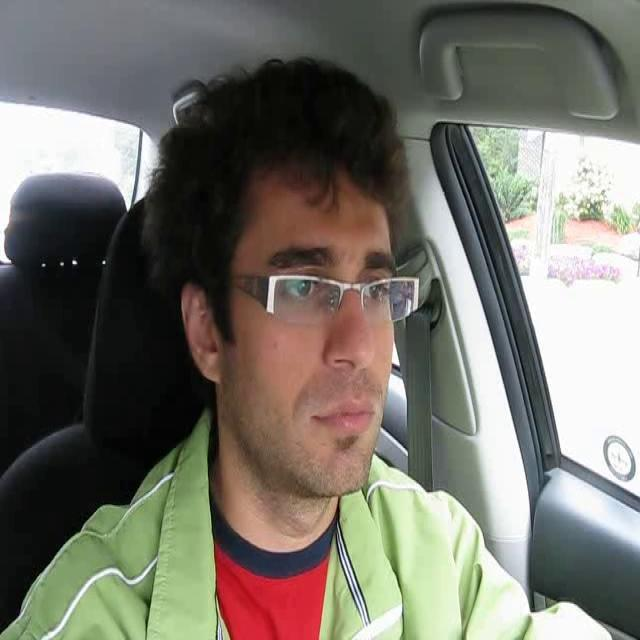close: (305, 393, 381, 434)
